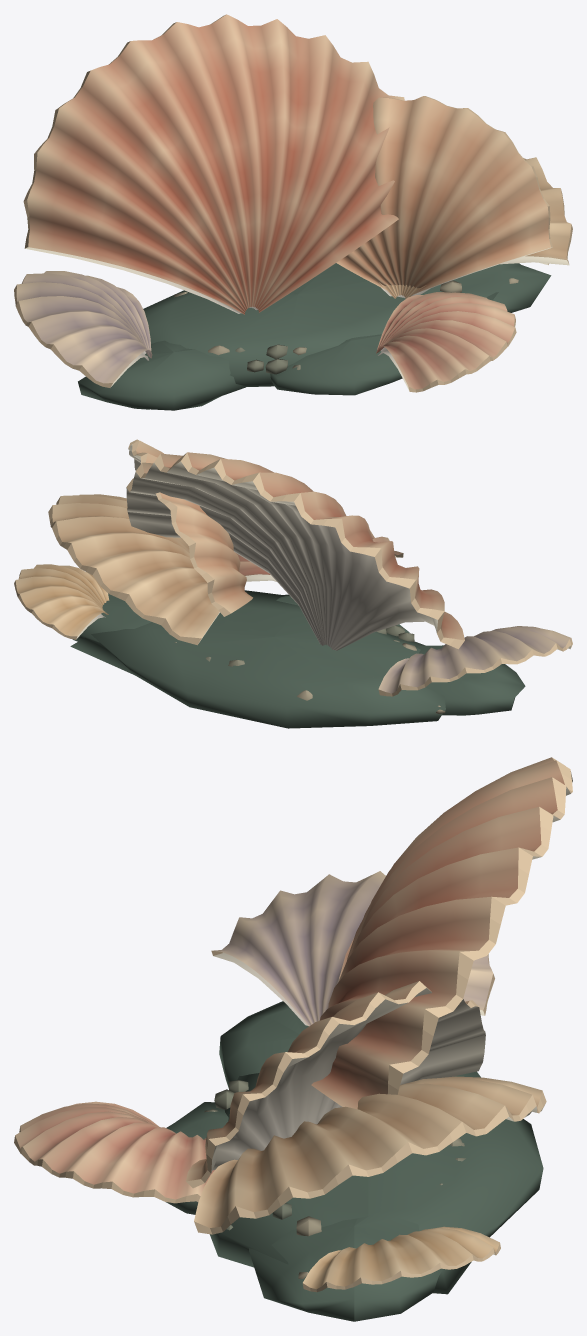
Rendered from shell.glb.
3 views of the same model, one above another, from view 1: azimuth 30°, elevation 25°; view 2: azimuth 150°, elevation 25°; view 3: azimuth 270°, elevation 25° (orthographic). The views are drawn at different scales.
Parts seen in each view (by area): view 1: fluted calcite, shell gravel, nacre; view 2: fluted calcite, shell gravel, nacre; view 3: fluted calcite, shell gravel, nacre.
Part boxes in pixels (<box>): fluted calcite: <box>16,14,571,389</box>; shell gravel: <box>78,263,551,410</box>; nacre: <box>14,15,572,392</box>; fluted calcite: <box>15,439,571,693</box>; shell gravel: <box>70,590,525,728</box>; nacre: <box>14,439,572,696</box>; fluted calcite: <box>15,757,564,1289</box>; shell gravel: <box>166,1001,543,1321</box>; nacre: <box>14,757,572,1292</box>.
Size of the model in its own units: 2.97 by 1.5 by 1.99.
